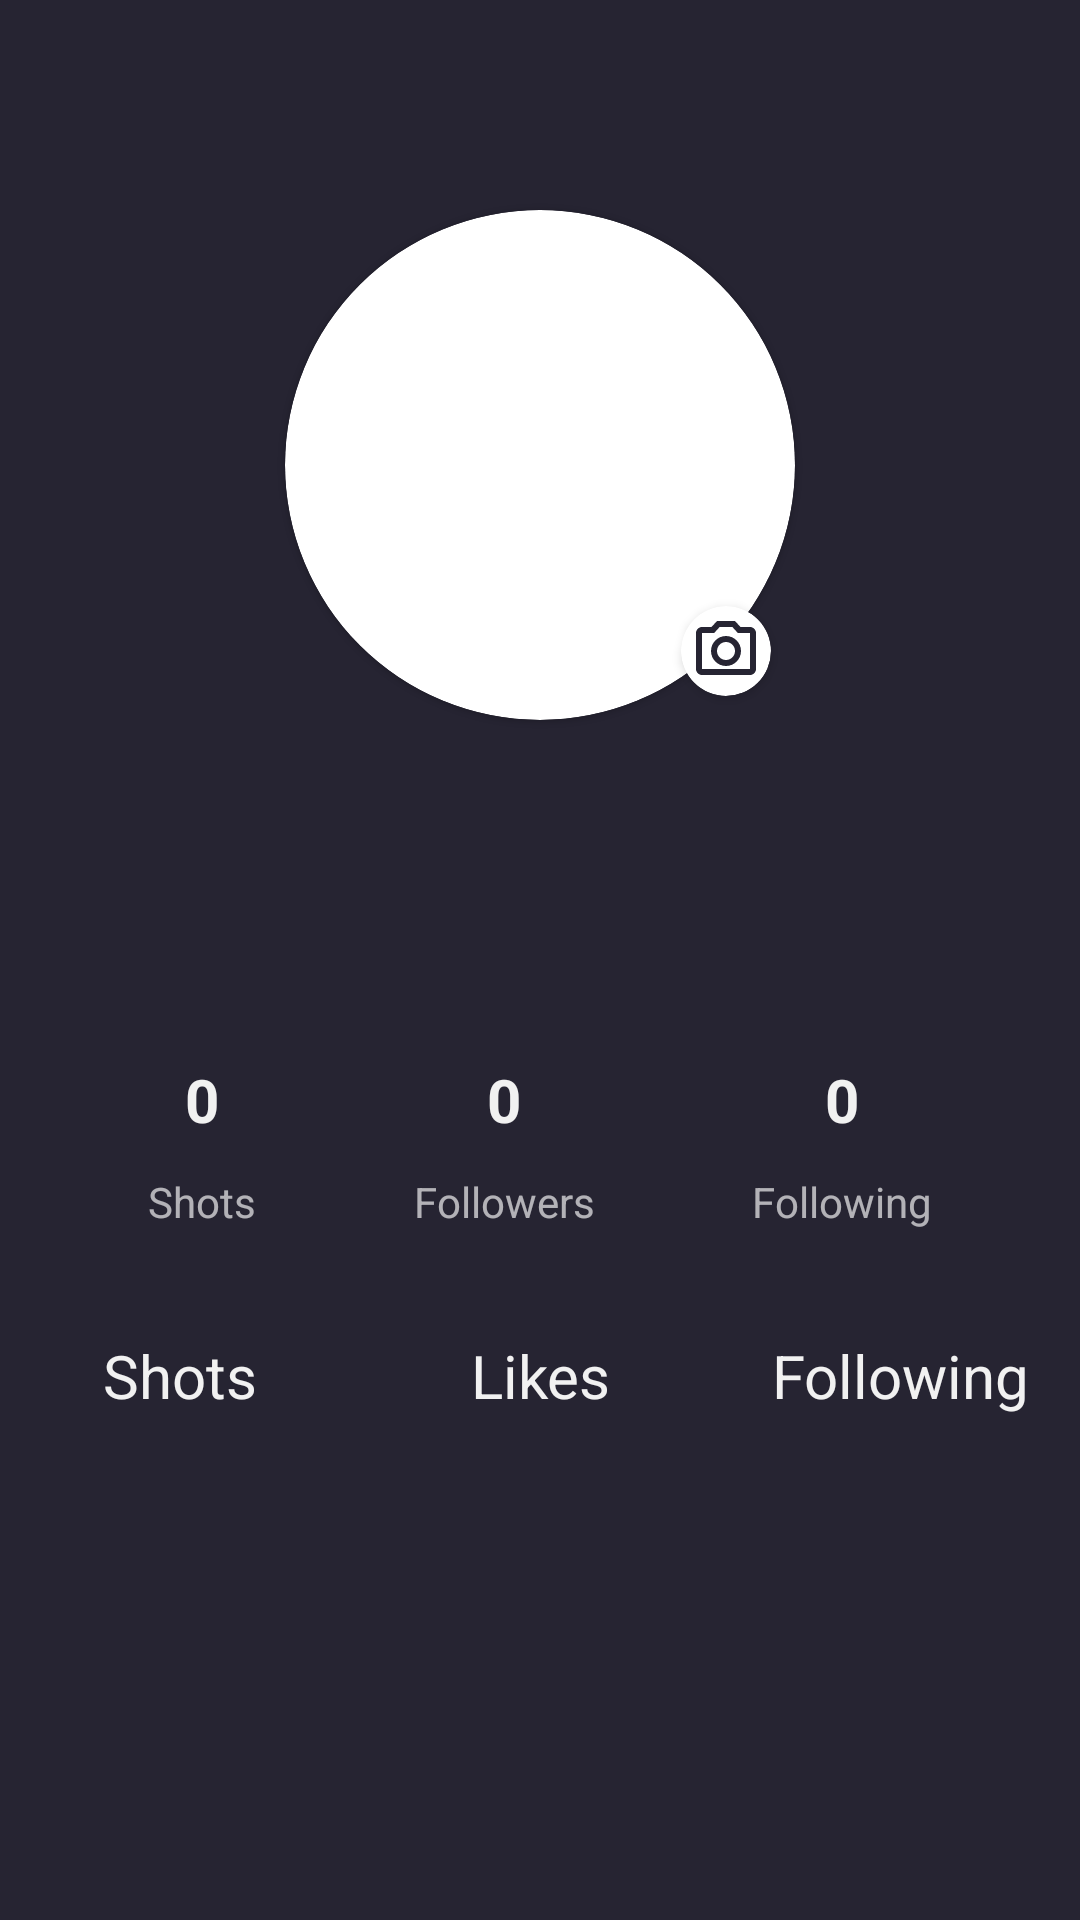

Screen size 1080px x 1920px. Icon name, then its center in pixels as (x=x, y=y):
camera: (x=726, y=651)
